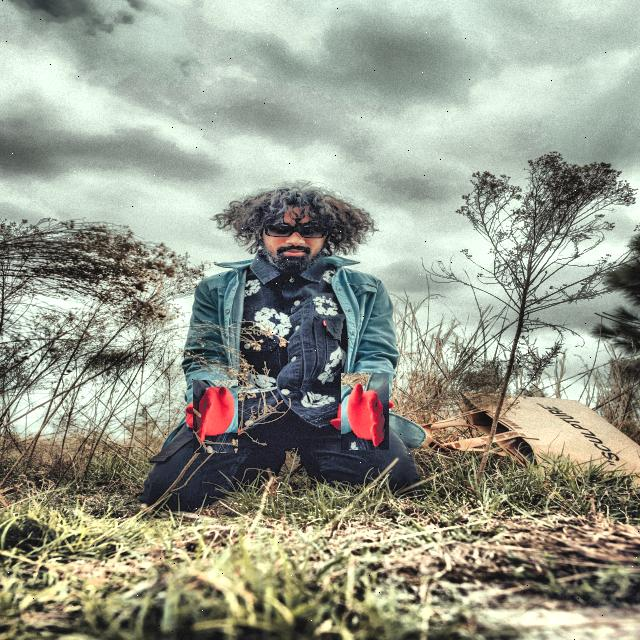gloved: (334, 380, 396, 442), (186, 387, 246, 447)
